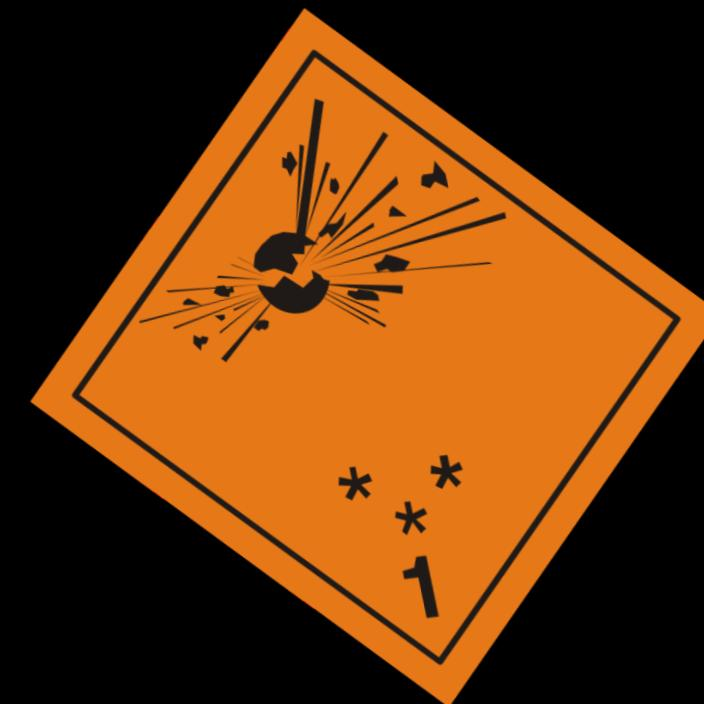bathroom sign: (30, 8, 704, 704)
